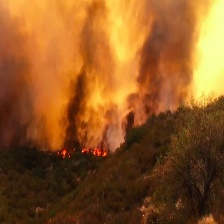fire: (46, 147, 109, 159)
smoke: (5, 1, 208, 138)
